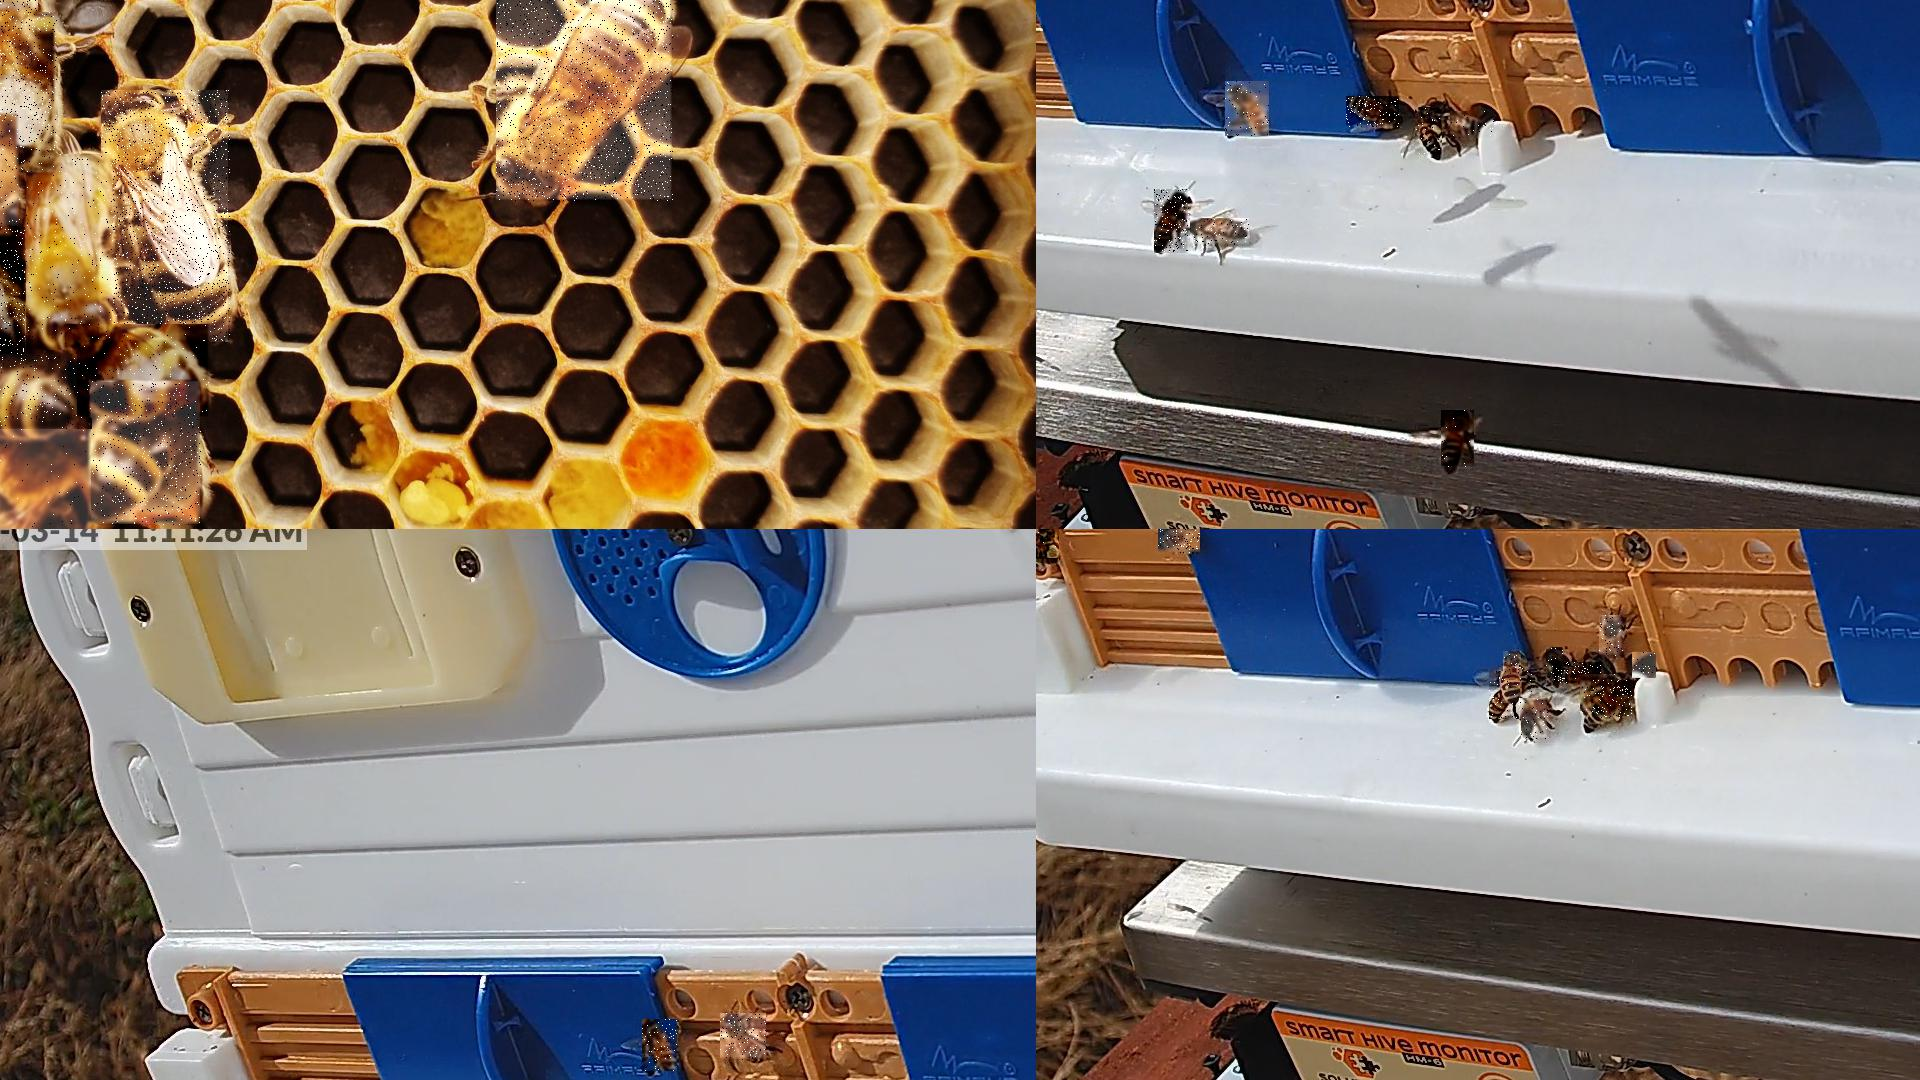bee: (496, 0, 675, 203), (102, 90, 232, 343), (26, 154, 115, 351), (92, 384, 203, 526), (67, 324, 212, 419), (0, 12, 59, 174), (0, 429, 94, 527), (0, 353, 79, 447), (0, 227, 26, 357), (0, 117, 22, 236), (1225, 80, 1270, 137), (1155, 189, 1191, 255), (720, 1014, 767, 1062), (1490, 671, 1536, 720), (1441, 411, 1476, 469), (642, 1019, 678, 1072), (1346, 96, 1400, 129), (1191, 219, 1250, 247), (1581, 675, 1619, 713), (1451, 112, 1495, 141), (1158, 529, 1203, 555), (1522, 699, 1549, 741), (1503, 651, 1524, 703), (1555, 662, 1602, 684), (1600, 616, 1625, 658), (1633, 653, 1658, 679), (1545, 647, 1564, 676)
pollenbee: (1593, 680, 1634, 720), (1415, 108, 1444, 158), (1036, 529, 1062, 563)
